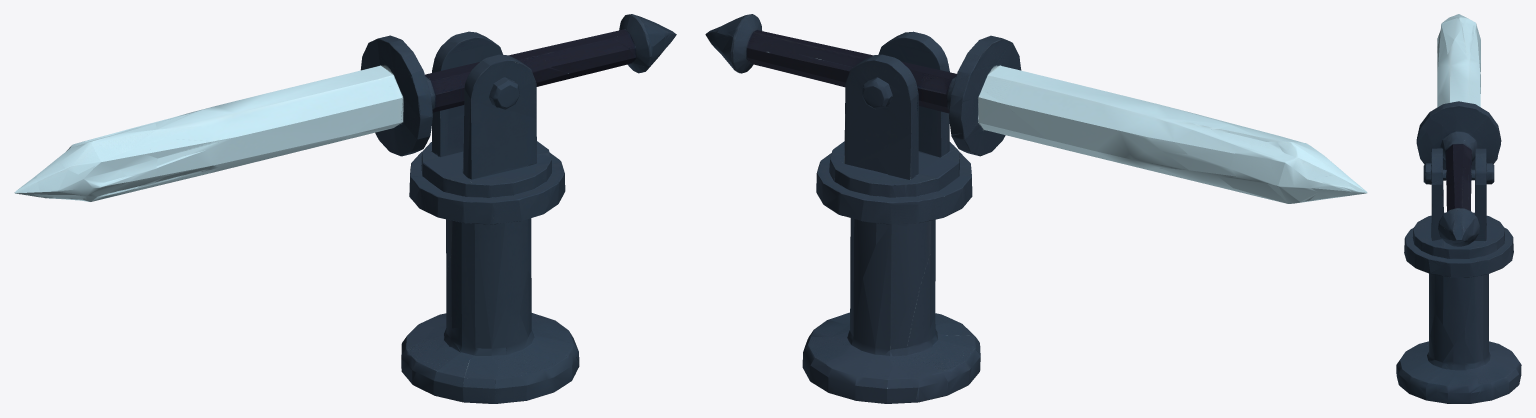
Rendered from turret.glb.
3 views of the same model, side by side, from view 1: azimuth 30°, elevation 25°; view 2: azimuth 150°, elevation 25°; view 3: azimuth 270°, elevation 25° (orthographic). The views are drawn at different scales.
Bounding box in the file's own units: 1.9 × 0.957 × 0.4465.
Materials: 1 (1 with a texture image).
